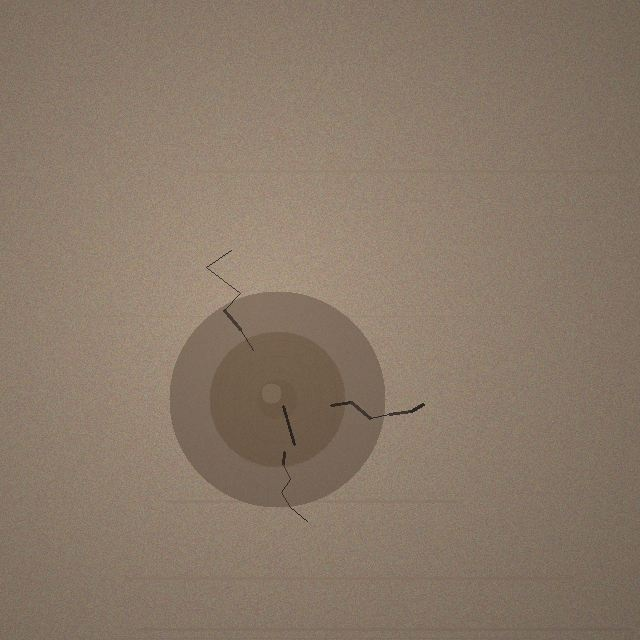crack: (169, 291, 385, 507)
